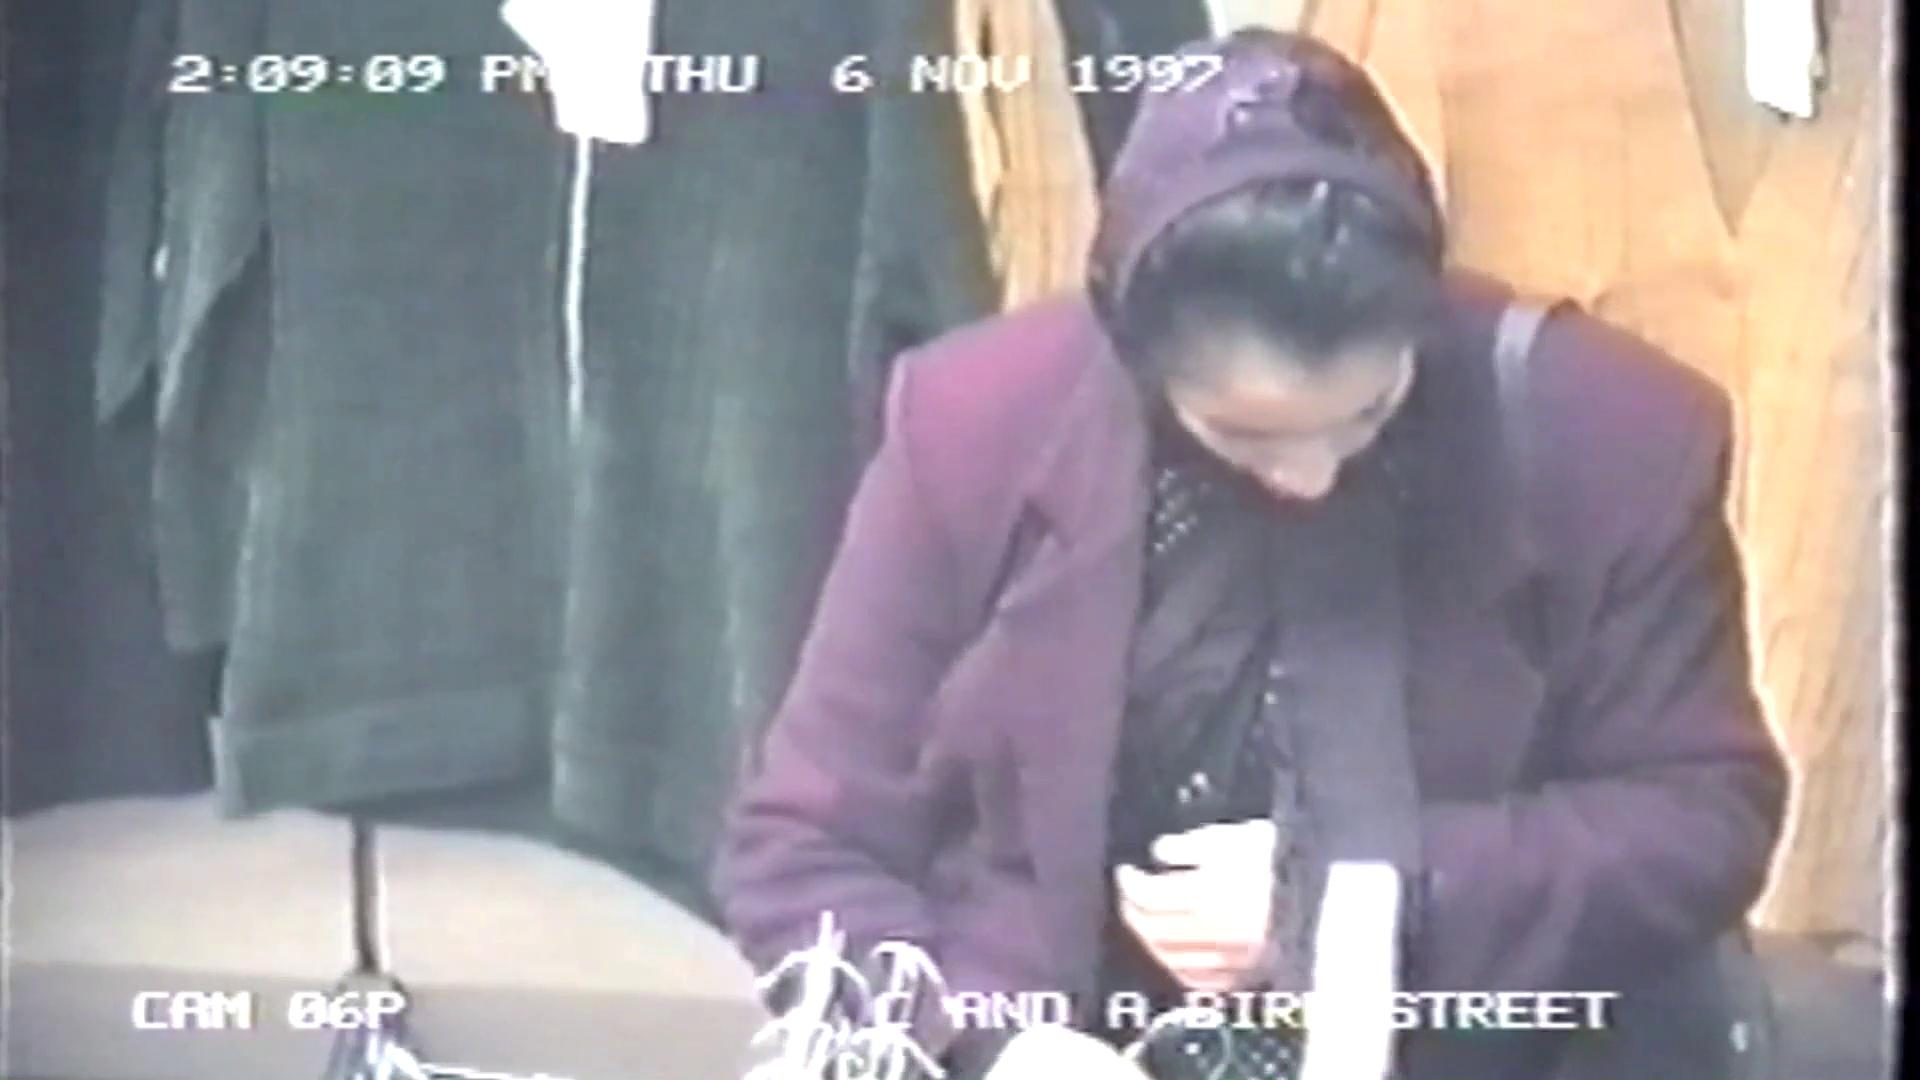Customer-Bagpack: (1530, 793, 1870, 1080)
Regular: (628, 0, 1796, 1080)
